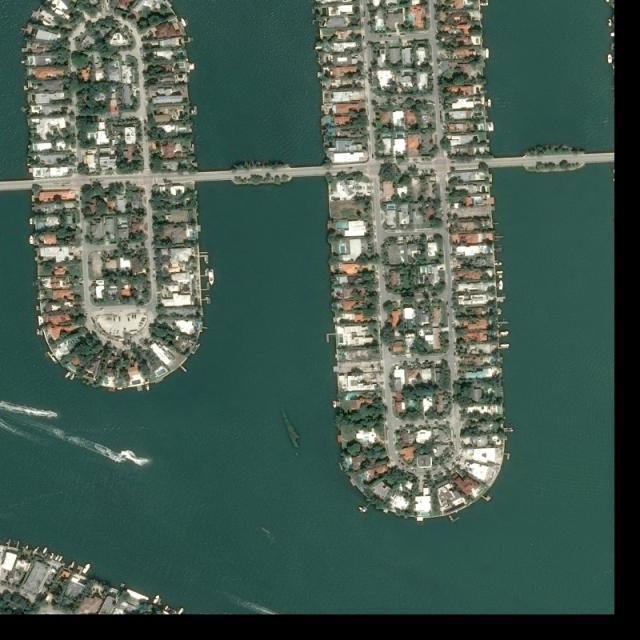ship: (82, 562, 92, 575), (208, 269, 214, 286), (152, 594, 161, 604), (358, 506, 367, 514), (42, 546, 49, 555), (498, 280, 504, 290), (177, 607, 185, 614), (54, 554, 61, 562), (70, 561, 76, 570), (501, 342, 510, 347), (29, 234, 33, 245), (50, 552, 55, 560), (501, 330, 509, 335), (65, 370, 70, 378), (70, 373, 75, 381), (486, 49, 490, 58), (143, 458, 150, 463), (50, 414, 58, 418), (58, 555, 62, 563)
